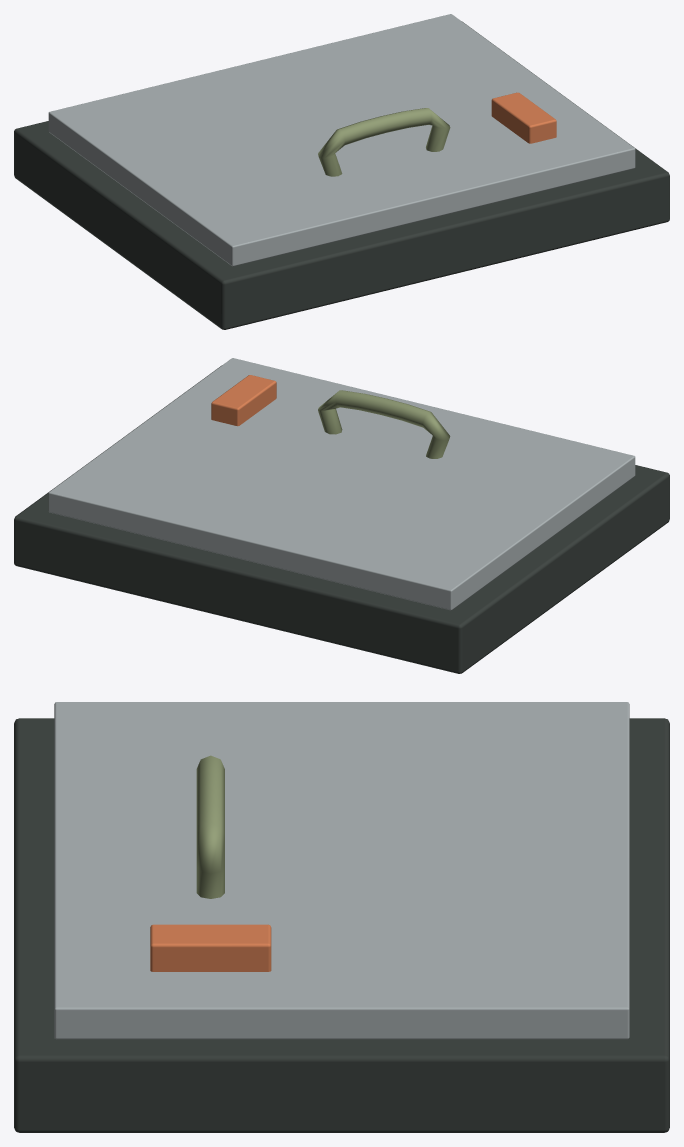
Rendered from extraction-routes-and-objectives-buried-cache-hatch-f6b1cad5__22160.glb.
3 renders of one model, top to bottom at view 1: azimuth 30°, elevation 25°; view 2: azimuth 150°, elevation 25°; view 3: azimuth 270°, elevation 25°, orthographic. The views are drawn at different scales.
Parts seen in each view (by area): view 1: hatch/metal, buried-cache-hatch; view 2: hatch/metal, buried-cache-hatch; view 3: hatch/metal, buried-cache-hatch.
Part boxes in pixels (x1,y1,x2,y2): hatch/metal: (48,14,635,266); buried-cache-hatch: (14,21,669,329); hatch/metal: (48,358,635,610); buried-cache-hatch: (14,365,669,673); hatch/metal: (54,702,629,1039); buried-cache-hatch: (14,718,669,1132).
Bounding box in the file's own units: 0.8 × 0.1959 × 0.65.
